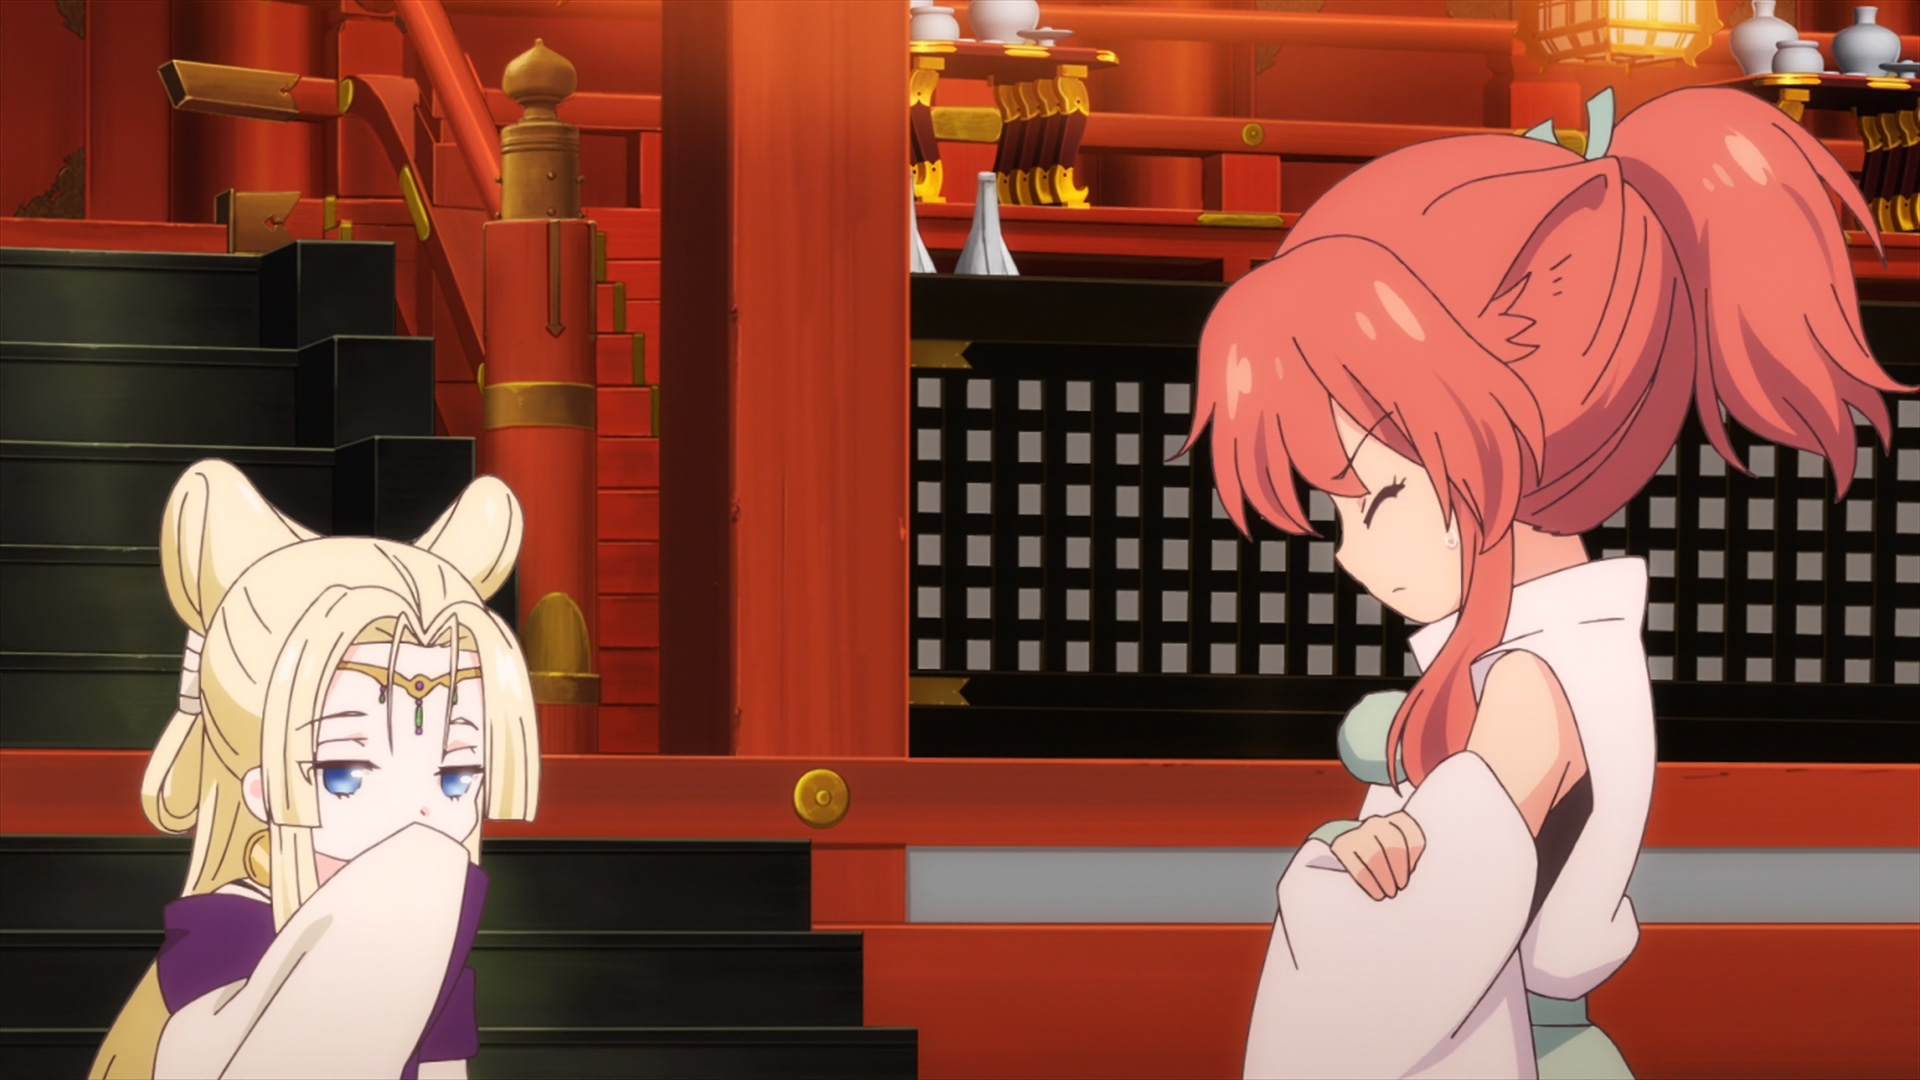其他: (88, 456, 542, 1080)
椿: (1170, 87, 1920, 1080)
